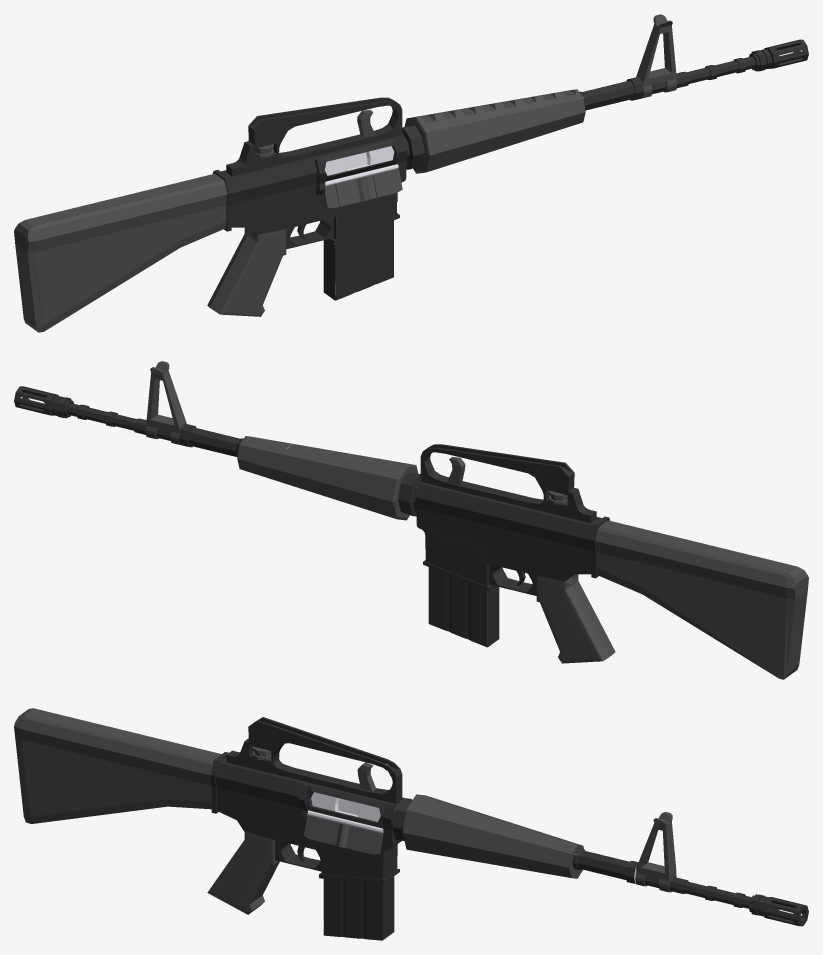
File: Armalite AR-10_Export.fbx
The picture shows the model from 3 angles, top to bottom: view 1: azimuth 30°, elevation 25°; view 2: azimuth 150°, elevation 25°; view 3: azimuth 330°, elevation 25°; orthographic projection.
Visible parts, largest first — view 1: Cube.014; view 2: Cube.014; view 3: Cube.014.
Part boxes in pixels (bbox=[...]): Cube.014: bbox=[14, 14, 808, 332]; Cube.014: bbox=[14, 361, 808, 679]; Cube.014: bbox=[14, 708, 808, 940].
Size of the model in its own units: 108 by 26.05 by 6.65.
